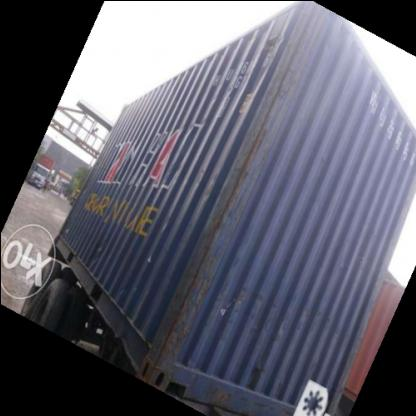Damage: (146, 183, 237, 368), (224, 10, 311, 178)
